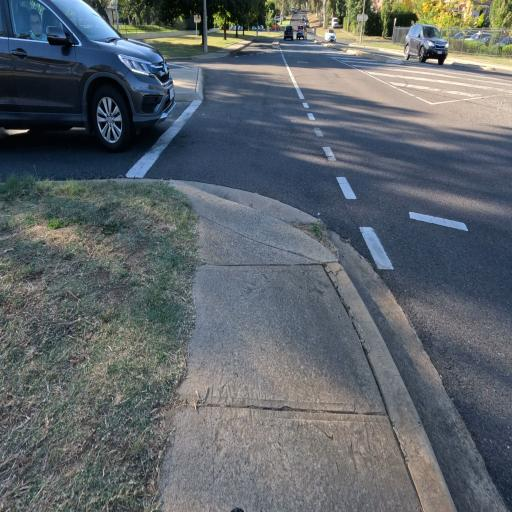kerb_cut: (186, 181, 311, 264)
